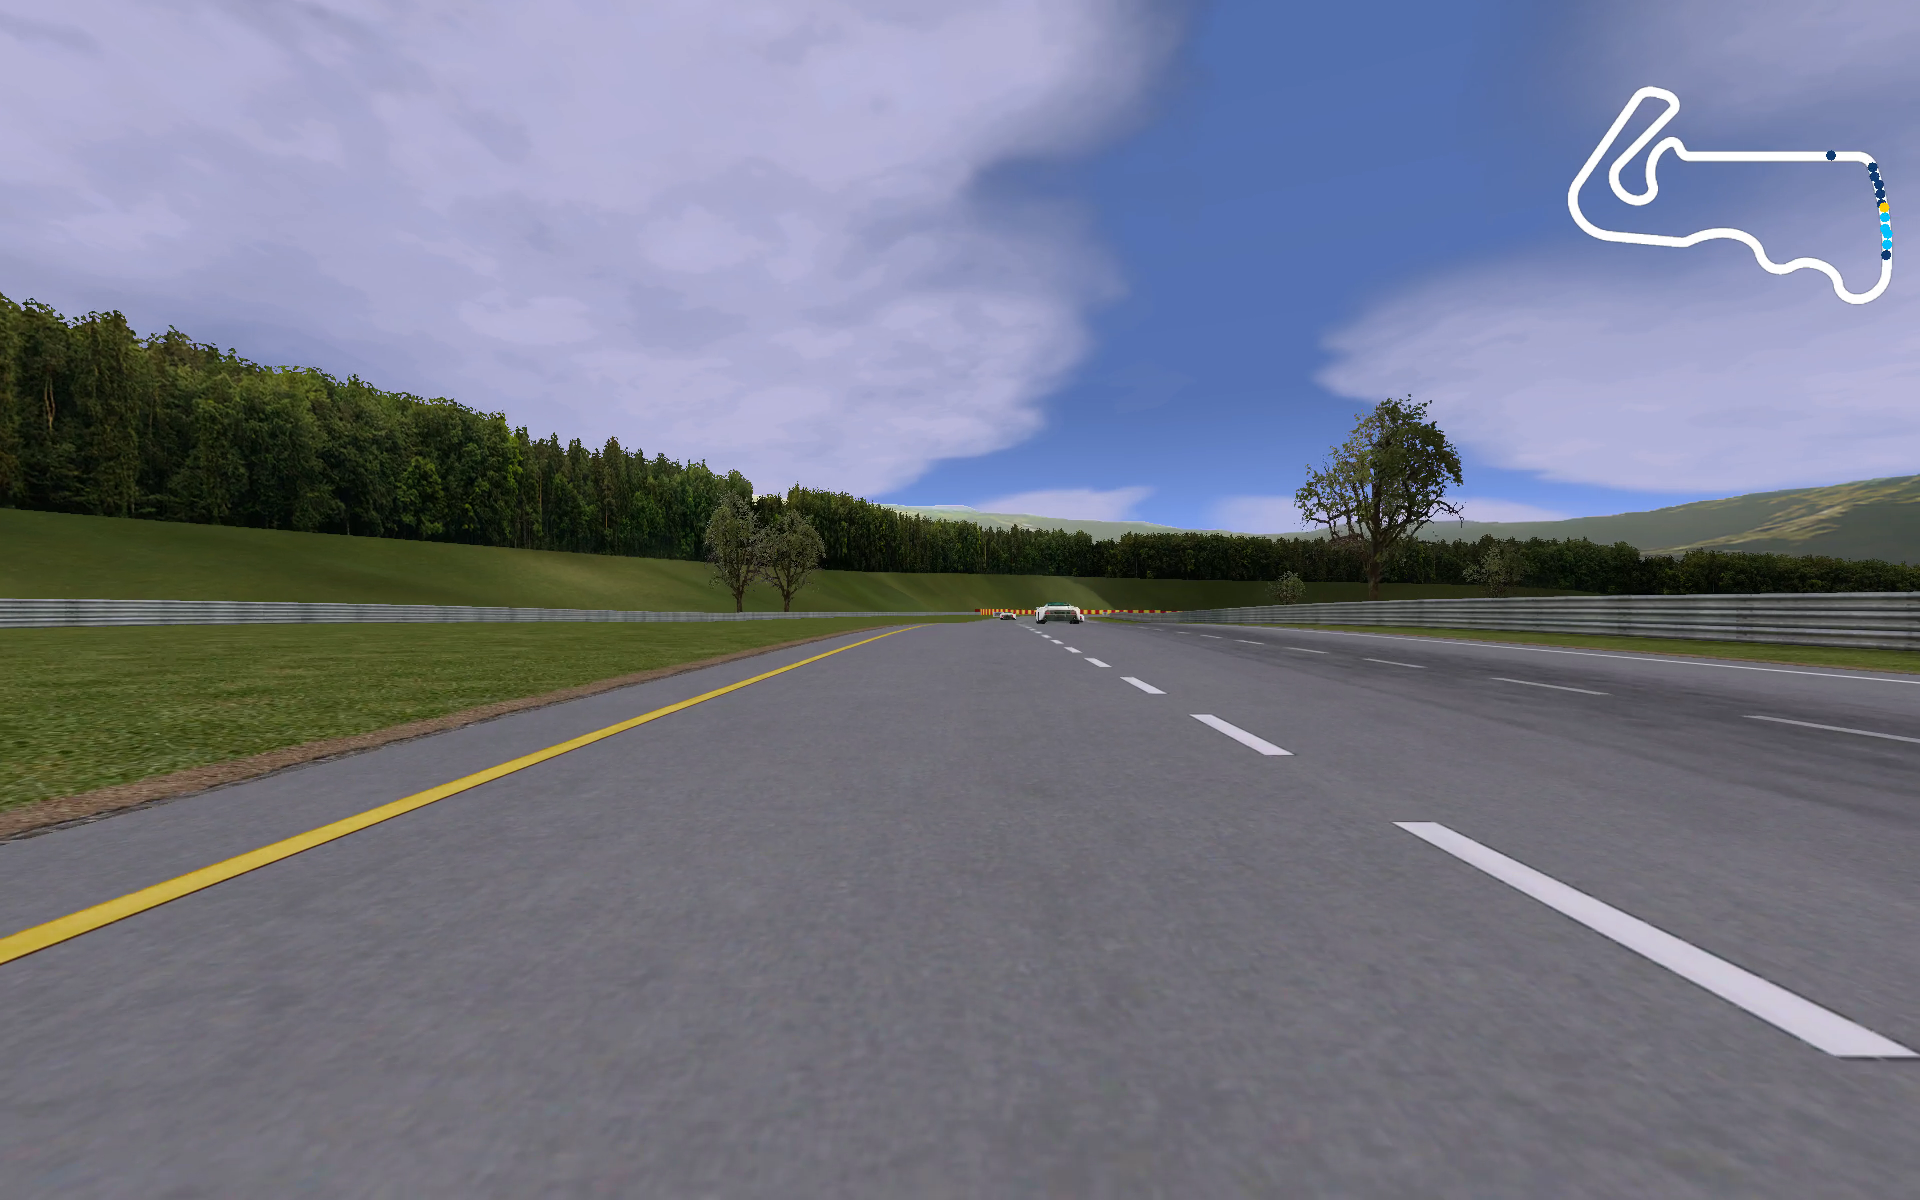car: (1033, 601, 1085, 626), (997, 610, 1016, 624)
